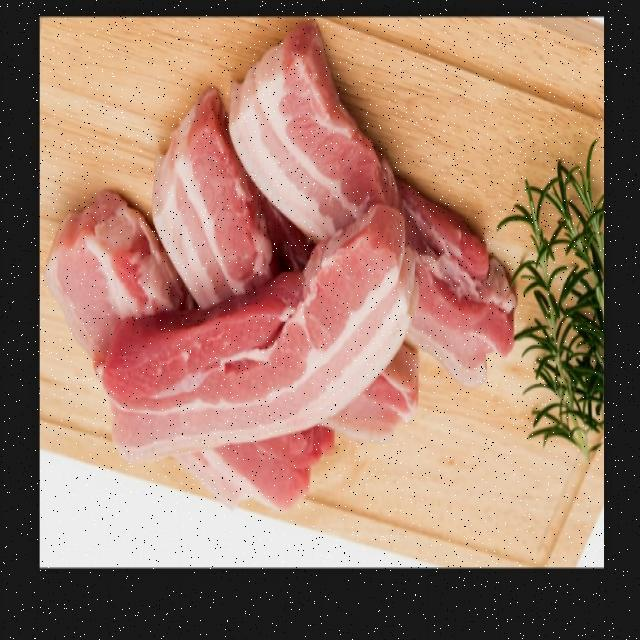pork: (47, 201, 333, 506), (100, 210, 418, 458), (231, 27, 411, 240), (147, 88, 298, 304), (405, 182, 512, 385)
